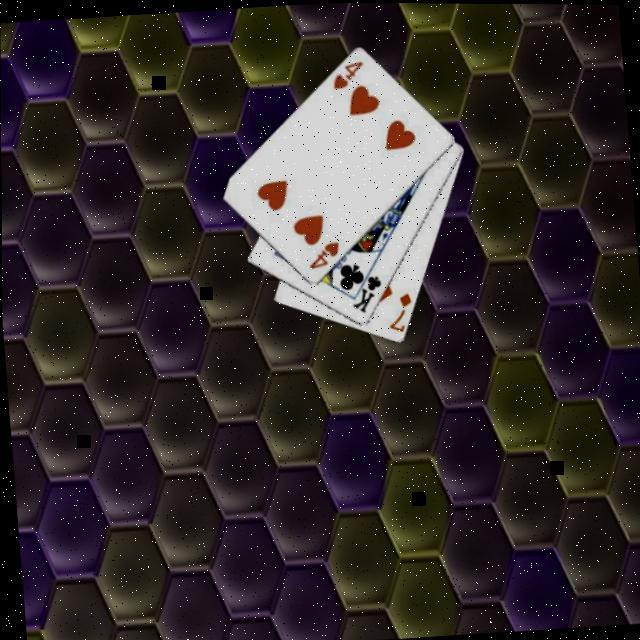4H: (328, 58, 366, 92), (304, 240, 342, 272)
7D: (382, 290, 415, 336)
KC: (346, 264, 384, 316)
